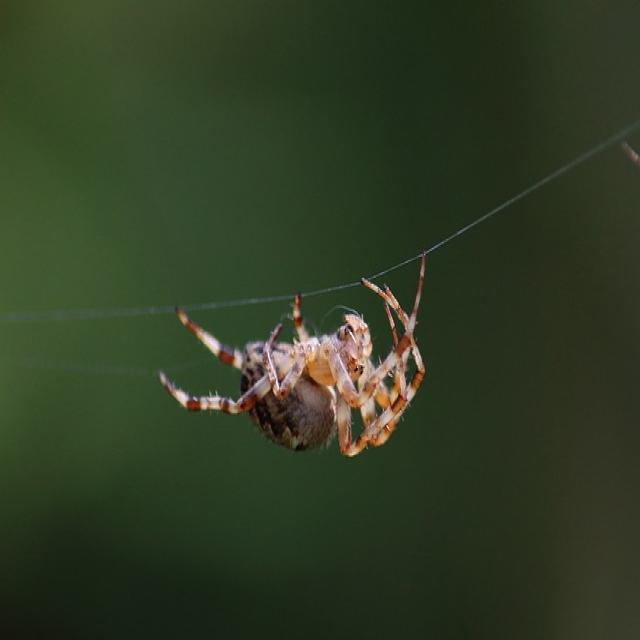spyder: (160, 259, 424, 455)
